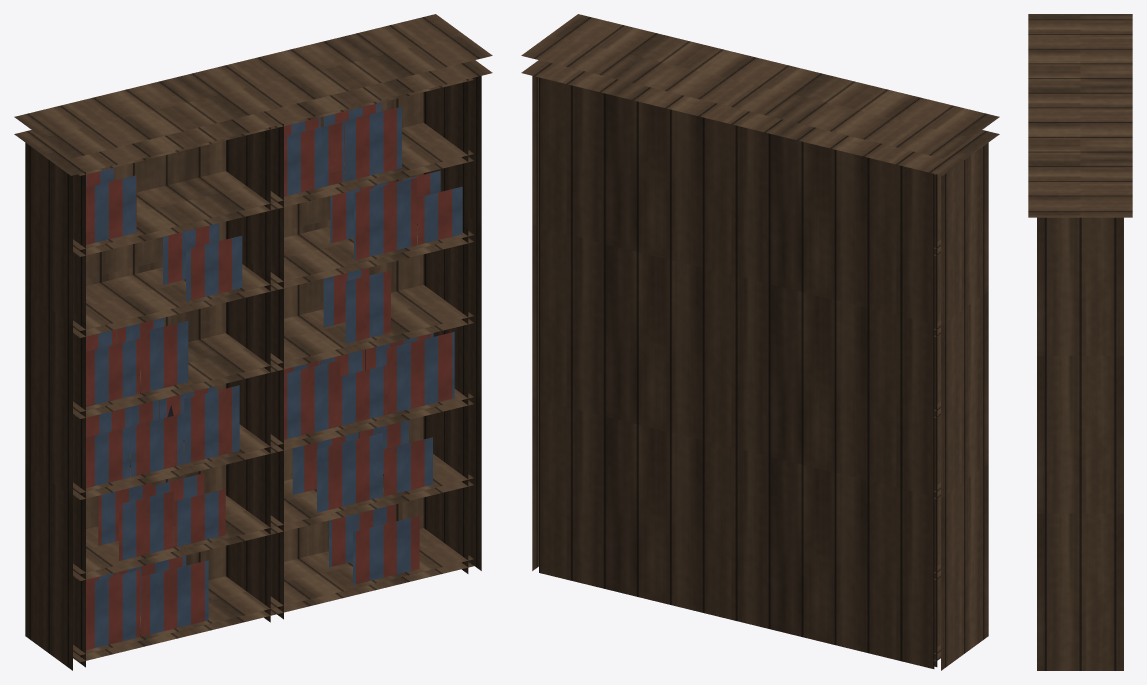
Rendered from Bookcase_Tall_1_LOD2.gltf.
3 views of the same model, side by side, from view 1: azimuth 30°, elevation 25°; view 2: azimuth 150°, elevation 25°; view 3: azimuth 270°, elevation 25° (orthographic). The views are drawn at different scales.
Parts seen in each view (by area): view 1: Bookcase_Tall_1_LOD2; view 2: Bookcase_Tall_1_LOD2; view 3: Bookcase_Tall_1_LOD2.
Boxes of the visible parts, x1=… form: Bookcase_Tall_1_LOD2: x1=14, y1=14, x2=492, y2=670; Bookcase_Tall_1_LOD2: x1=521, y1=14, x2=999, y2=670; Bookcase_Tall_1_LOD2: x1=1028, y1=14, x2=1132, y2=670.
Size of the model in its own units: 2.56 by 3 by 0.6.
Materials: 2 (2 with a texture image).
